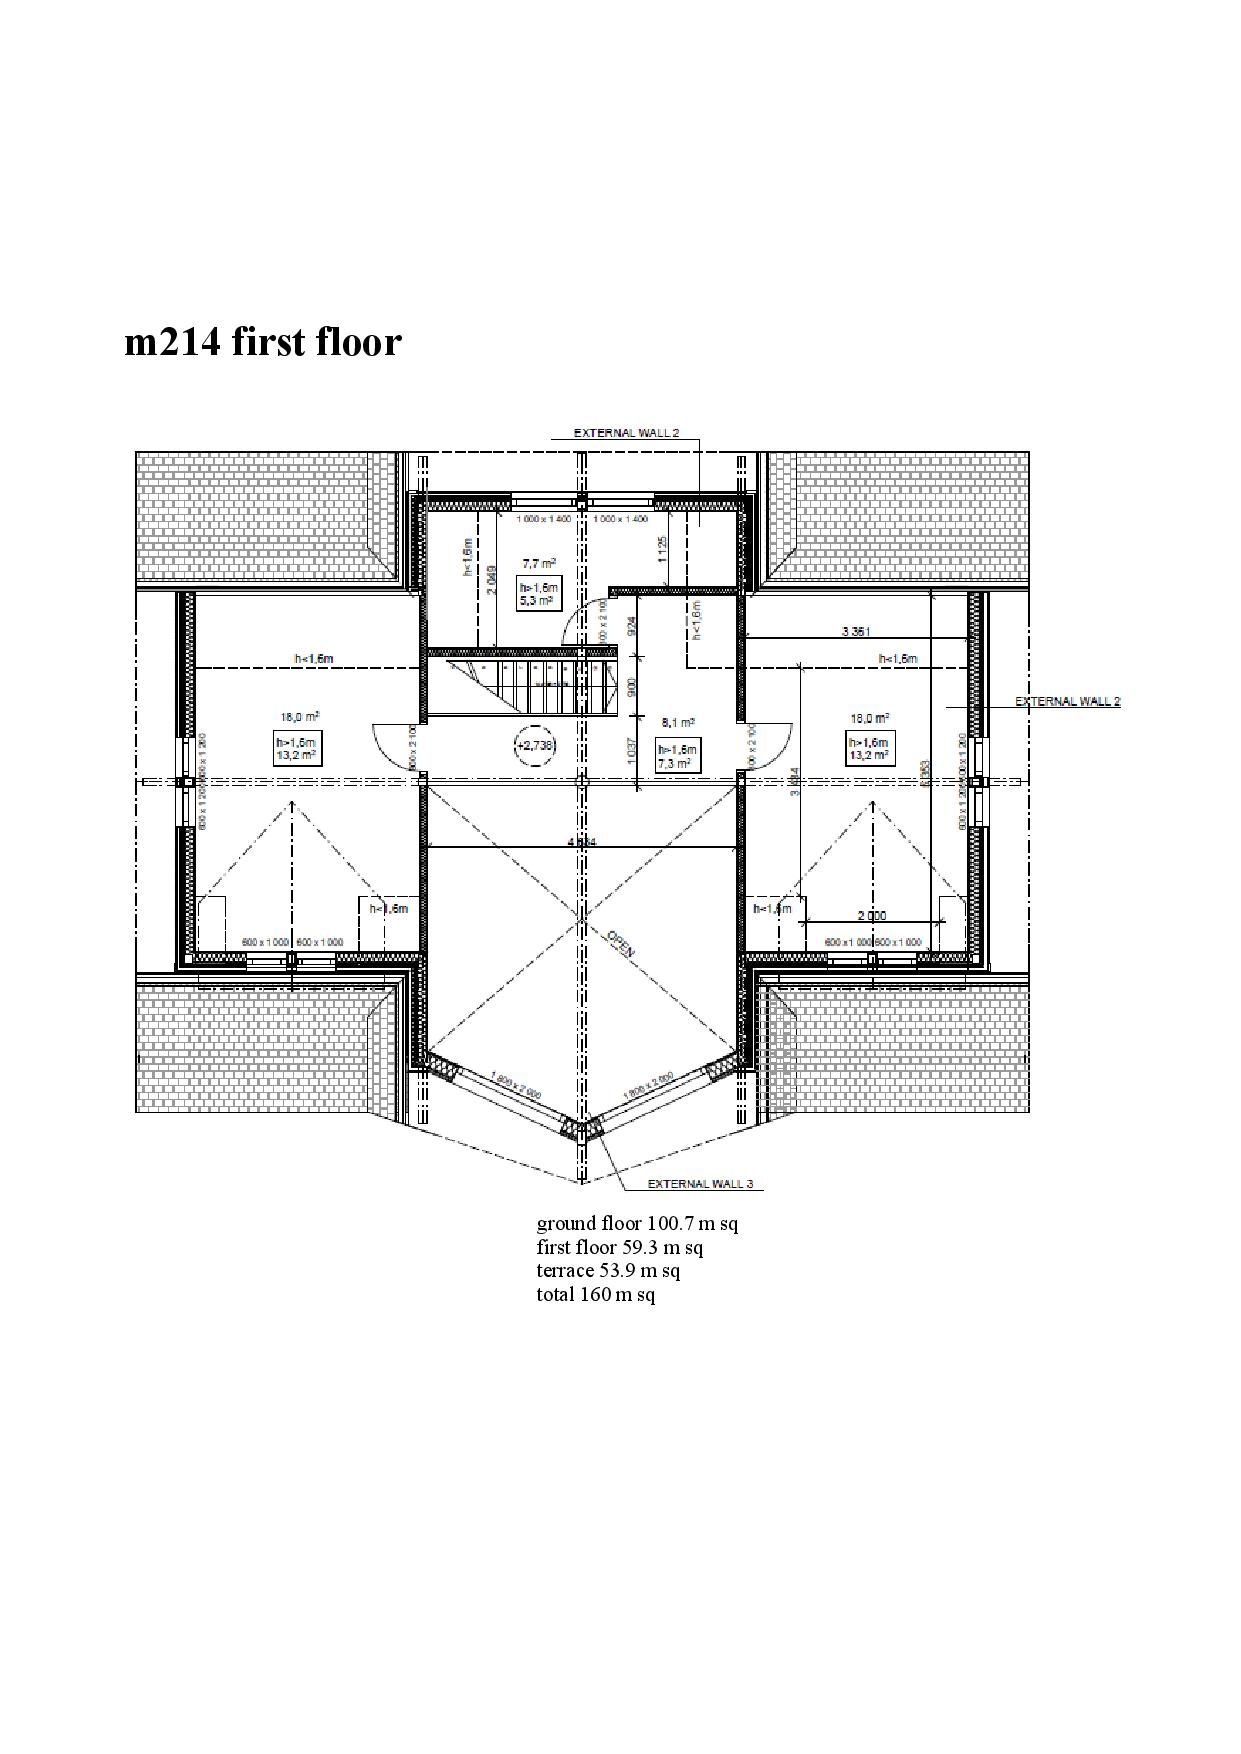door: (552, 594, 606, 651), (751, 714, 796, 776), (368, 719, 414, 779)
wall: (175, 592, 193, 736), (406, 492, 427, 596), (406, 494, 512, 514), (651, 493, 757, 513), (334, 950, 427, 972), (967, 829, 980, 968), (968, 594, 980, 736), (176, 952, 246, 974)
window: (510, 489, 654, 513), (963, 737, 989, 829), (176, 737, 195, 829), (246, 951, 336, 970), (827, 950, 917, 968)
